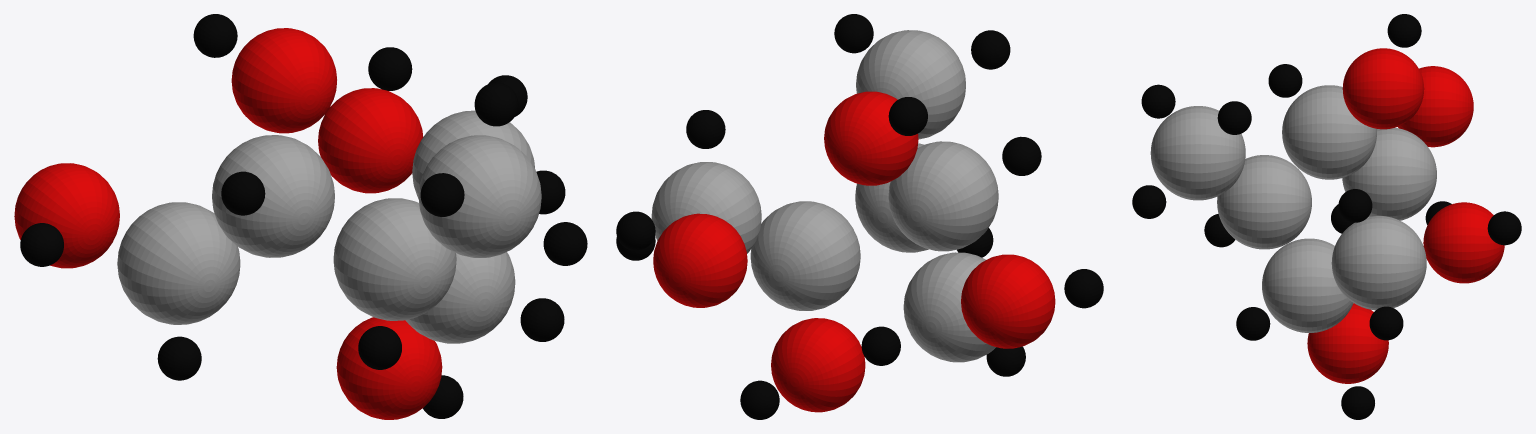
The model's file is Xylitol.glb.
3 views of the same model, side by side, from view 1: azimuth 30°, elevation 25°; view 2: azimuth 150°, elevation 25°; view 3: azimuth 270°, elevation 25° (orthographic). The views are drawn at different scales.
Visible parts, largest first — view 1: world; view 2: world; view 3: world.
Part boxes in pixels (x1,y1,x2,y2): world: (14, 14, 587, 419); world: (616, 14, 1103, 419); world: (1132, 14, 1521, 419).
Bounding box in the file's own units: 7.07 × 5.35 × 5.74.
